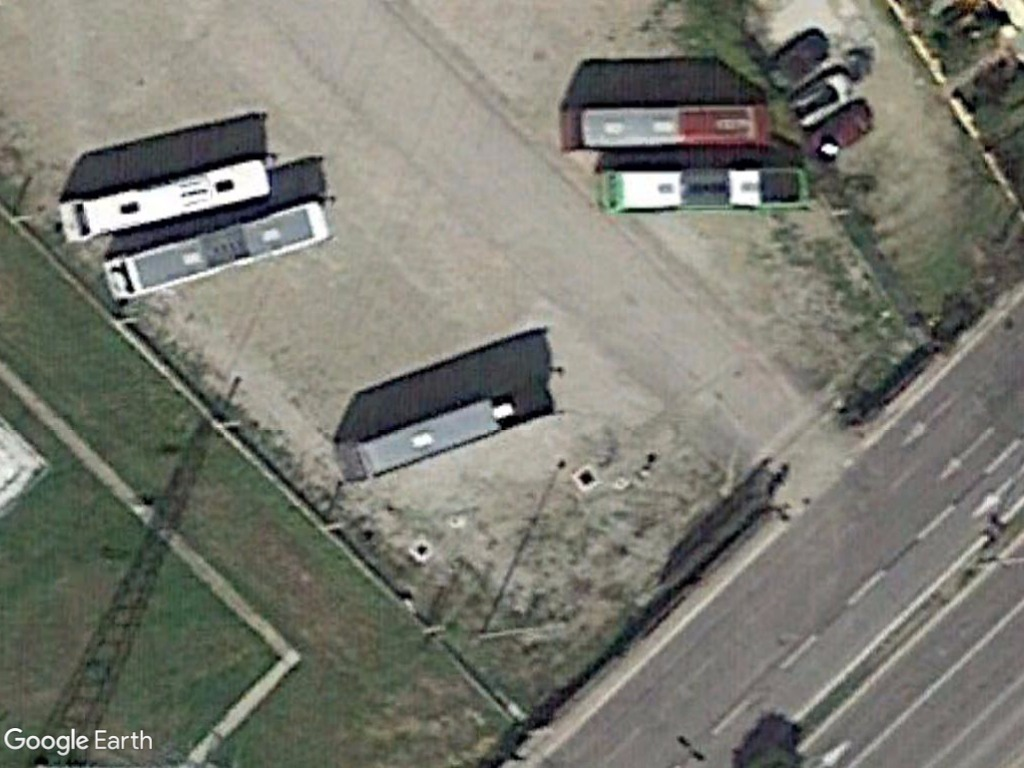bus: (98, 195, 332, 306), (54, 144, 274, 246), (554, 95, 780, 154), (591, 163, 809, 217)
